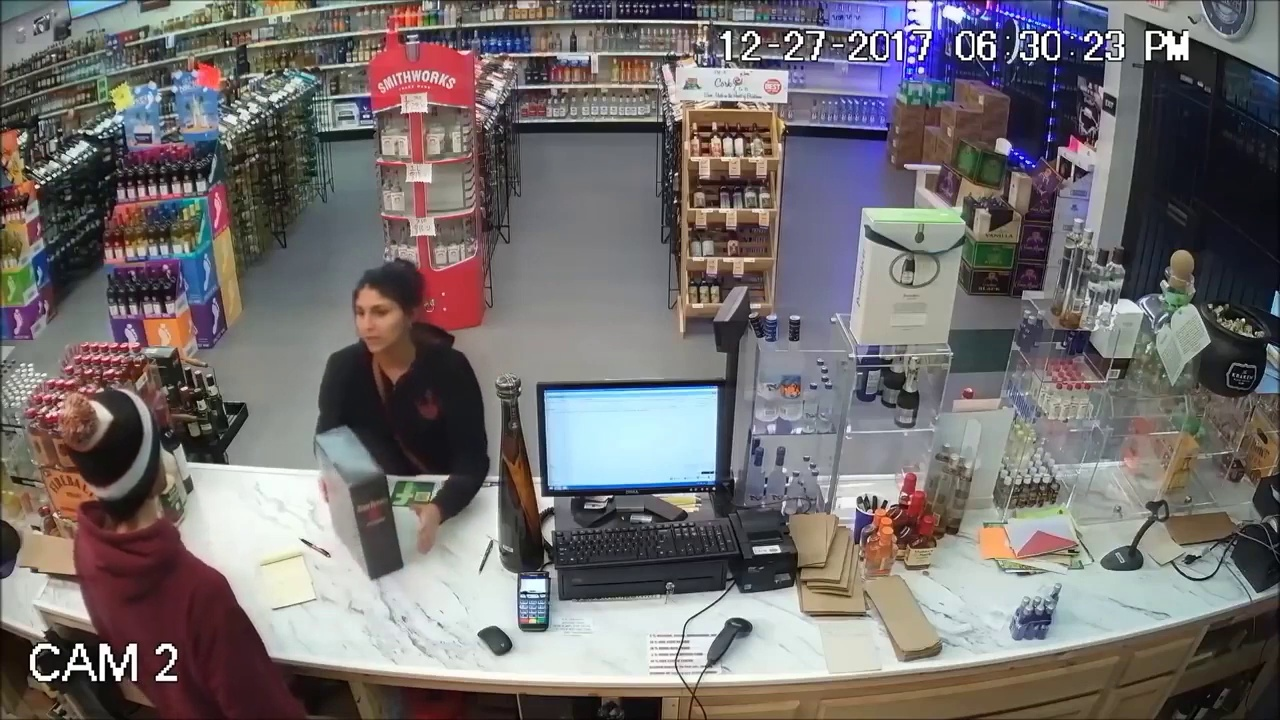face: (352, 293, 404, 354)
